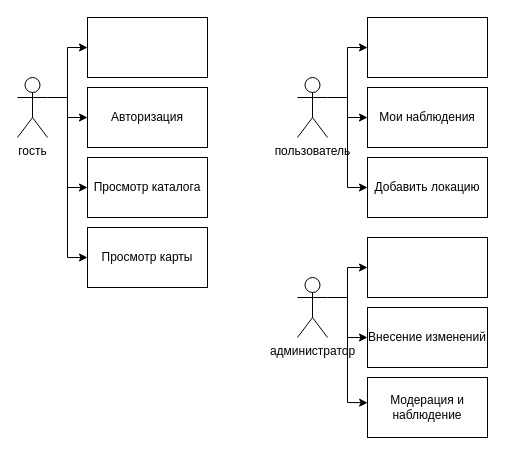
This 505x455 diagram has some shape labels left out. Here are the shapes that lost their labels. From the top down, the centre of each, then its label:
the point at 147,47: Регистрация
the point at 427,47: Добавить наблюдение
the point at 427,267: Управление пользователем
